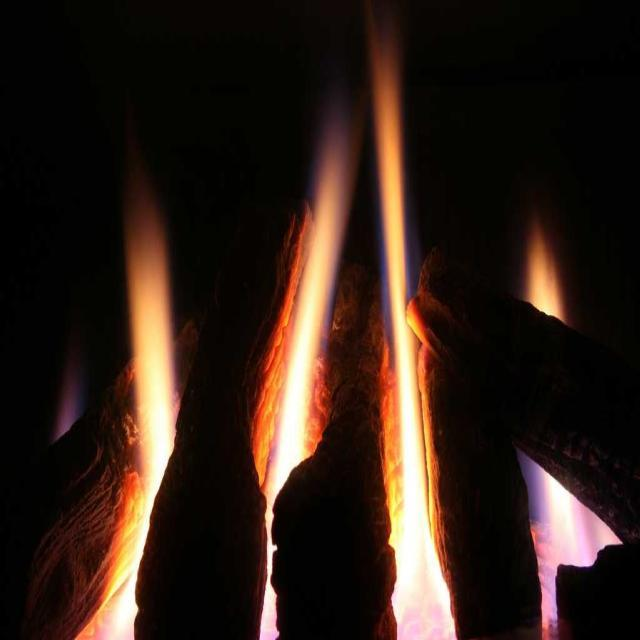Fire: (128, 202, 176, 430), (396, 342, 422, 606), (297, 208, 332, 382), (386, 81, 410, 305), (276, 402, 306, 468), (110, 560, 144, 616)
